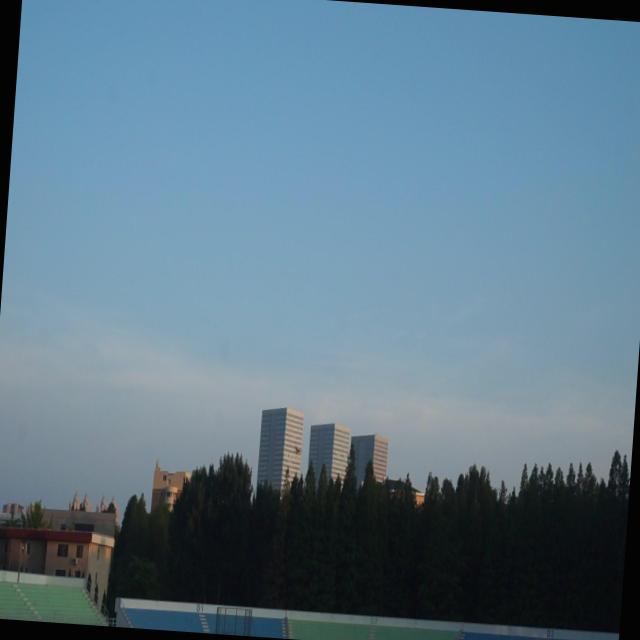drone: (290, 440, 306, 458)
